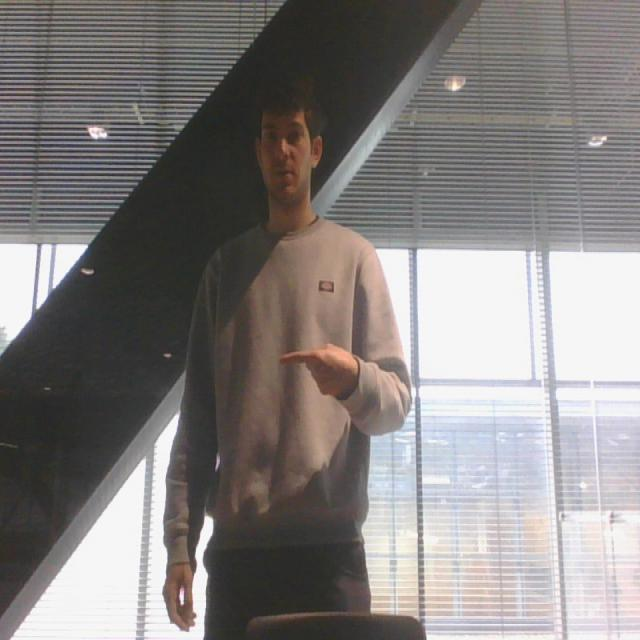left: (276, 337, 358, 401)
